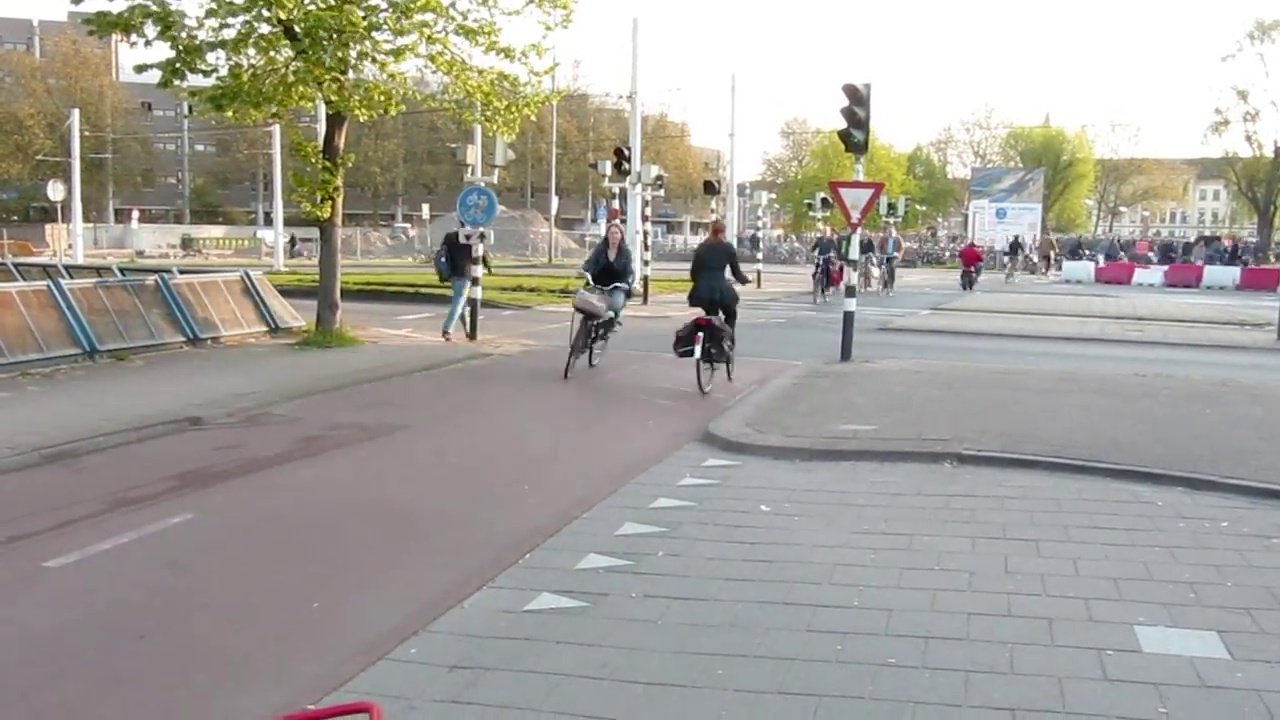cyclist_back: (688, 217, 746, 402), (955, 237, 979, 294)
cyclist_front: (575, 217, 634, 387), (810, 221, 837, 305), (877, 221, 898, 297), (858, 232, 875, 297)
